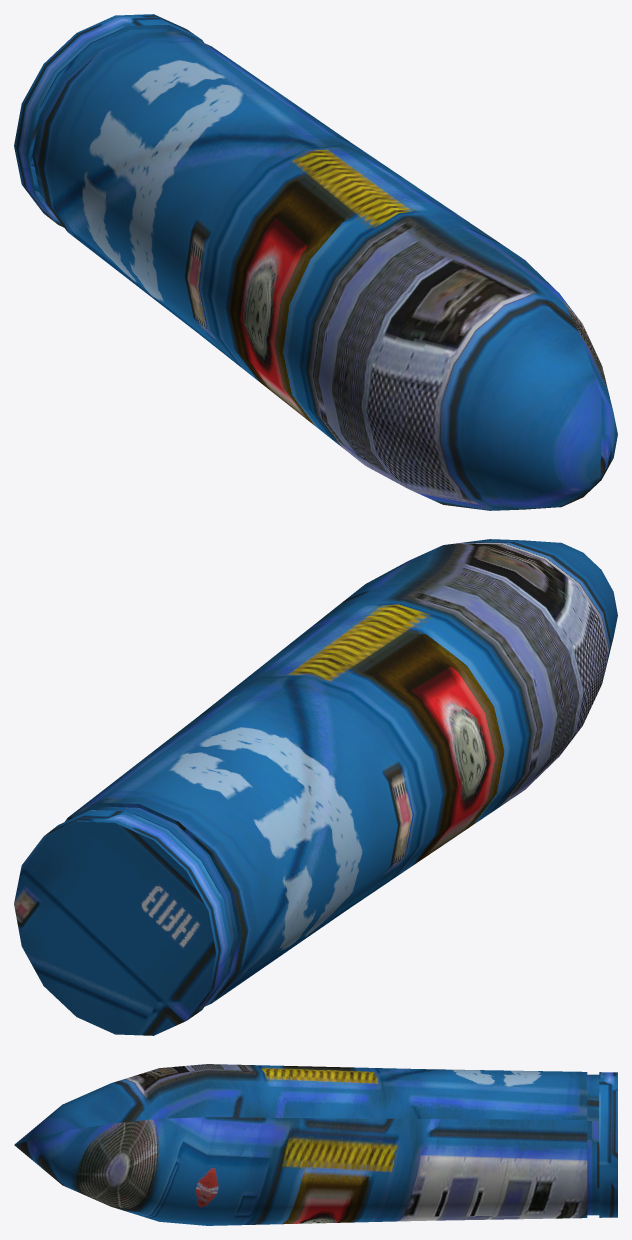
The model's file is BulletC.obj.
3 renders of one model, top to bottom at view 1: azimuth 30°, elevation 25°; view 2: azimuth 150°, elevation 25°; view 3: azimuth 270°, elevation 25°, orthographic. The views are drawn at different scales.
Visible parts, largest first — view 1: Cylinder001; view 2: Cylinder001; view 3: Cylinder001.
Part boxes in pixels (box(x1,y1,x2,y2)): Cylinder001: box(14, 14, 617, 510); Cylinder001: box(14, 539, 617, 1035); Cylinder001: box(14, 1064, 617, 1225).
Size of the model in its own units: 22.94 by 22.94 by 85.48.
1 material, 1 textured.
